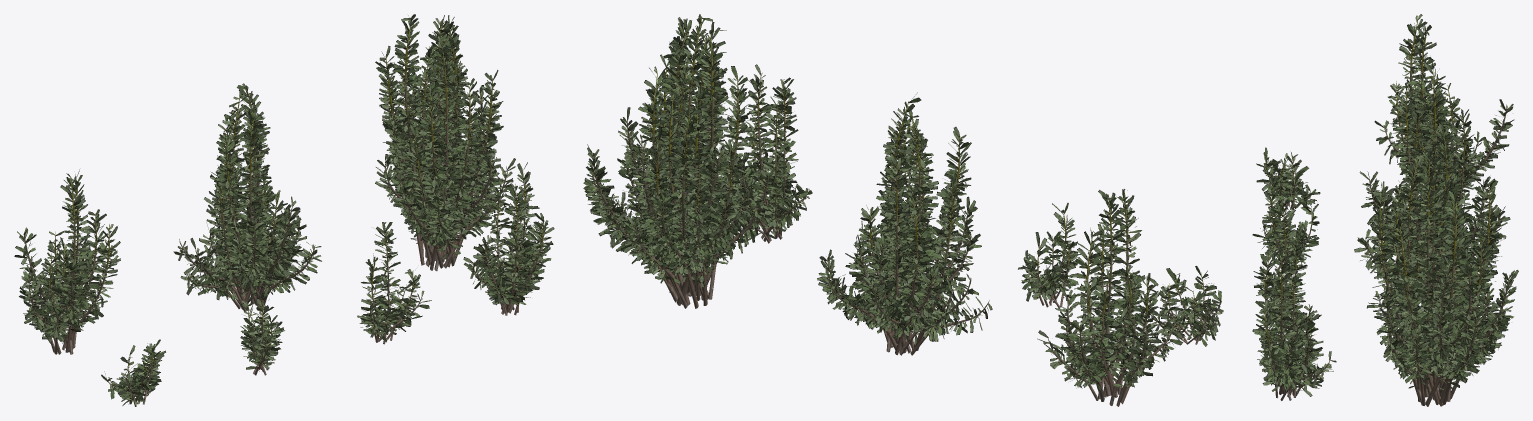
Rendered from othonna_cerarioides.glb.
3 renders of one model, left to right at view 1: azimuth 30°, elevation 25°; view 2: azimuth 150°, elevation 25°; view 3: azimuth 270°, elevation 25°, orthographic. The views are drawn at different scales.
Parts seen in each view (by area): view 1: othonna_cerarioides_a, othonna_cerarioides_b, othonna_cerarioides_c, othonna_cerarioides_d, othonna_cerarioides_e, othonna_cerarioides_f, othonna_cerarioides_g; view 2: othonna_cerarioides_a, othonna_cerarioides_b, othonna_cerarioides_c, othonna_cerarioides_d, othonna_cerarioides_g, othonna_cerarioides_f, othonna_cerarioides_e; view 3: othonna_cerarioides_a, othonna_cerarioides_b, othonna_cerarioides_d, othonna_cerarioides_c, othonna_cerarioides_f, othonna_cerarioides_e, othonna_cerarioides_g.
Boxes of the visible parts, left/top/right/bottom form: othonna_cerarioides_a: left=375, top=14, right=515, bottom=271; othonna_cerarioides_b: left=173, top=83, right=321, bottom=311; othonna_cerarioides_c: left=14, top=169, right=120, bottom=354; othonna_cerarioides_d: left=463, top=162, right=554, bottom=315; othonna_cerarioides_e: left=357, top=222, right=431, bottom=344; othonna_cerarioides_f: left=240, top=287, right=284, bottom=375; othonna_cerarioides_g: left=101, top=339, right=165, bottom=406; othonna_cerarioides_a: left=583, top=14, right=780, bottom=308; othonna_cerarioides_b: left=817, top=92, right=992, bottom=355; othonna_cerarioides_c: left=1037, top=189, right=1183, bottom=406; othonna_cerarioides_d: left=719, top=64, right=812, bottom=243; othonna_cerarioides_g: left=1142, top=266, right=1223, bottom=346; othonna_cerarioides_f: left=1018, top=203, right=1080, bottom=308; othonna_cerarioides_e: left=854, top=132, right=954, bottom=267; othonna_cerarioides_a: left=1367, top=123, right=1518, bottom=406; othonna_cerarioides_b: left=1354, top=61, right=1510, bottom=302; othonna_cerarioides_d: left=1252, top=250, right=1336, bottom=400; othonna_cerarioides_c: left=1374, top=14, right=1514, bottom=203; othonna_cerarioides_f: left=1252, top=176, right=1319, bottom=271; othonna_cerarioides_e: left=1254, top=204, right=1321, bottom=333; othonna_cerarioides_g: left=1256, top=147, right=1320, bottom=209.
Bounding box in the file's own units: 3.97 × 1.97 × 1.8.
2 materials, 2 textured.
